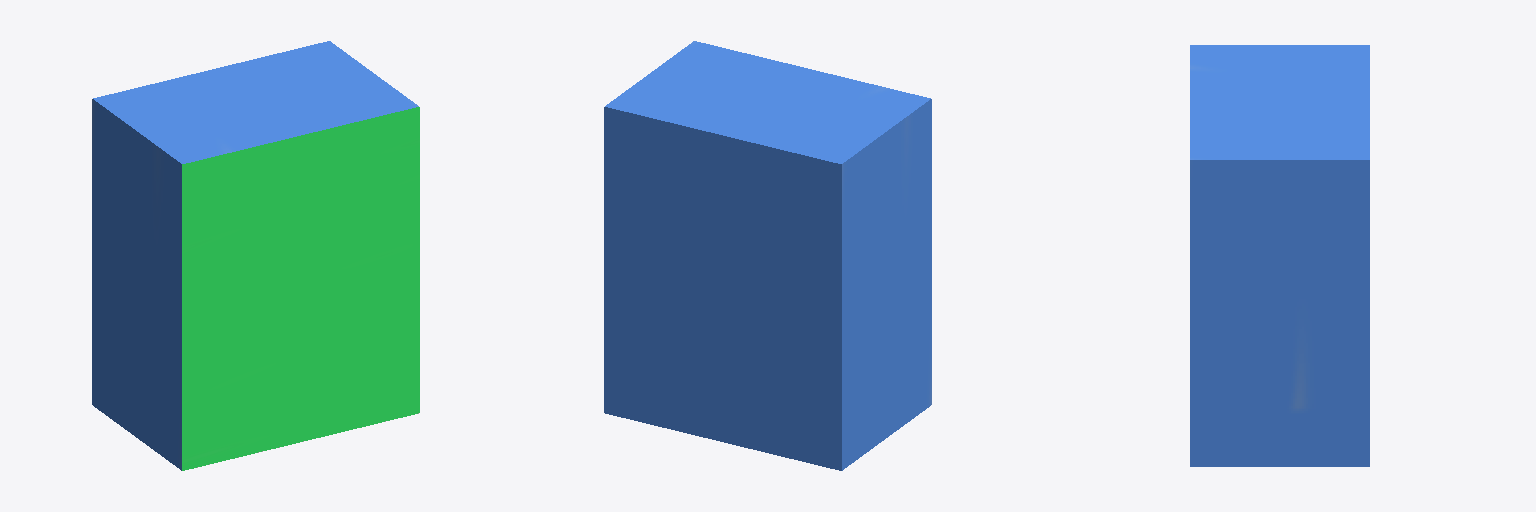
3 renders of one model, left to right at view 1: azimuth 30°, elevation 25°; view 2: azimuth 150°, elevation 25°; view 3: azimuth 270°, elevation 25°, orthographic.
Parts seen in each view (by area): view 1: 立方体; view 2: 立方体; view 3: 立方体.
Boxes of the visible parts, box(x1,y1,x2,y2) form: 立方体: box(92, 41, 419, 470); 立方体: box(604, 41, 931, 470); 立方体: box(1190, 45, 1369, 466).
Size of the model in its own units: 32.38 by 40.02 by 21.27.
1 materials, 1 textured.